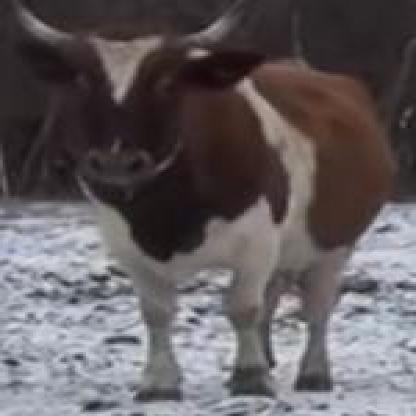cow: (10, 0, 398, 402)
